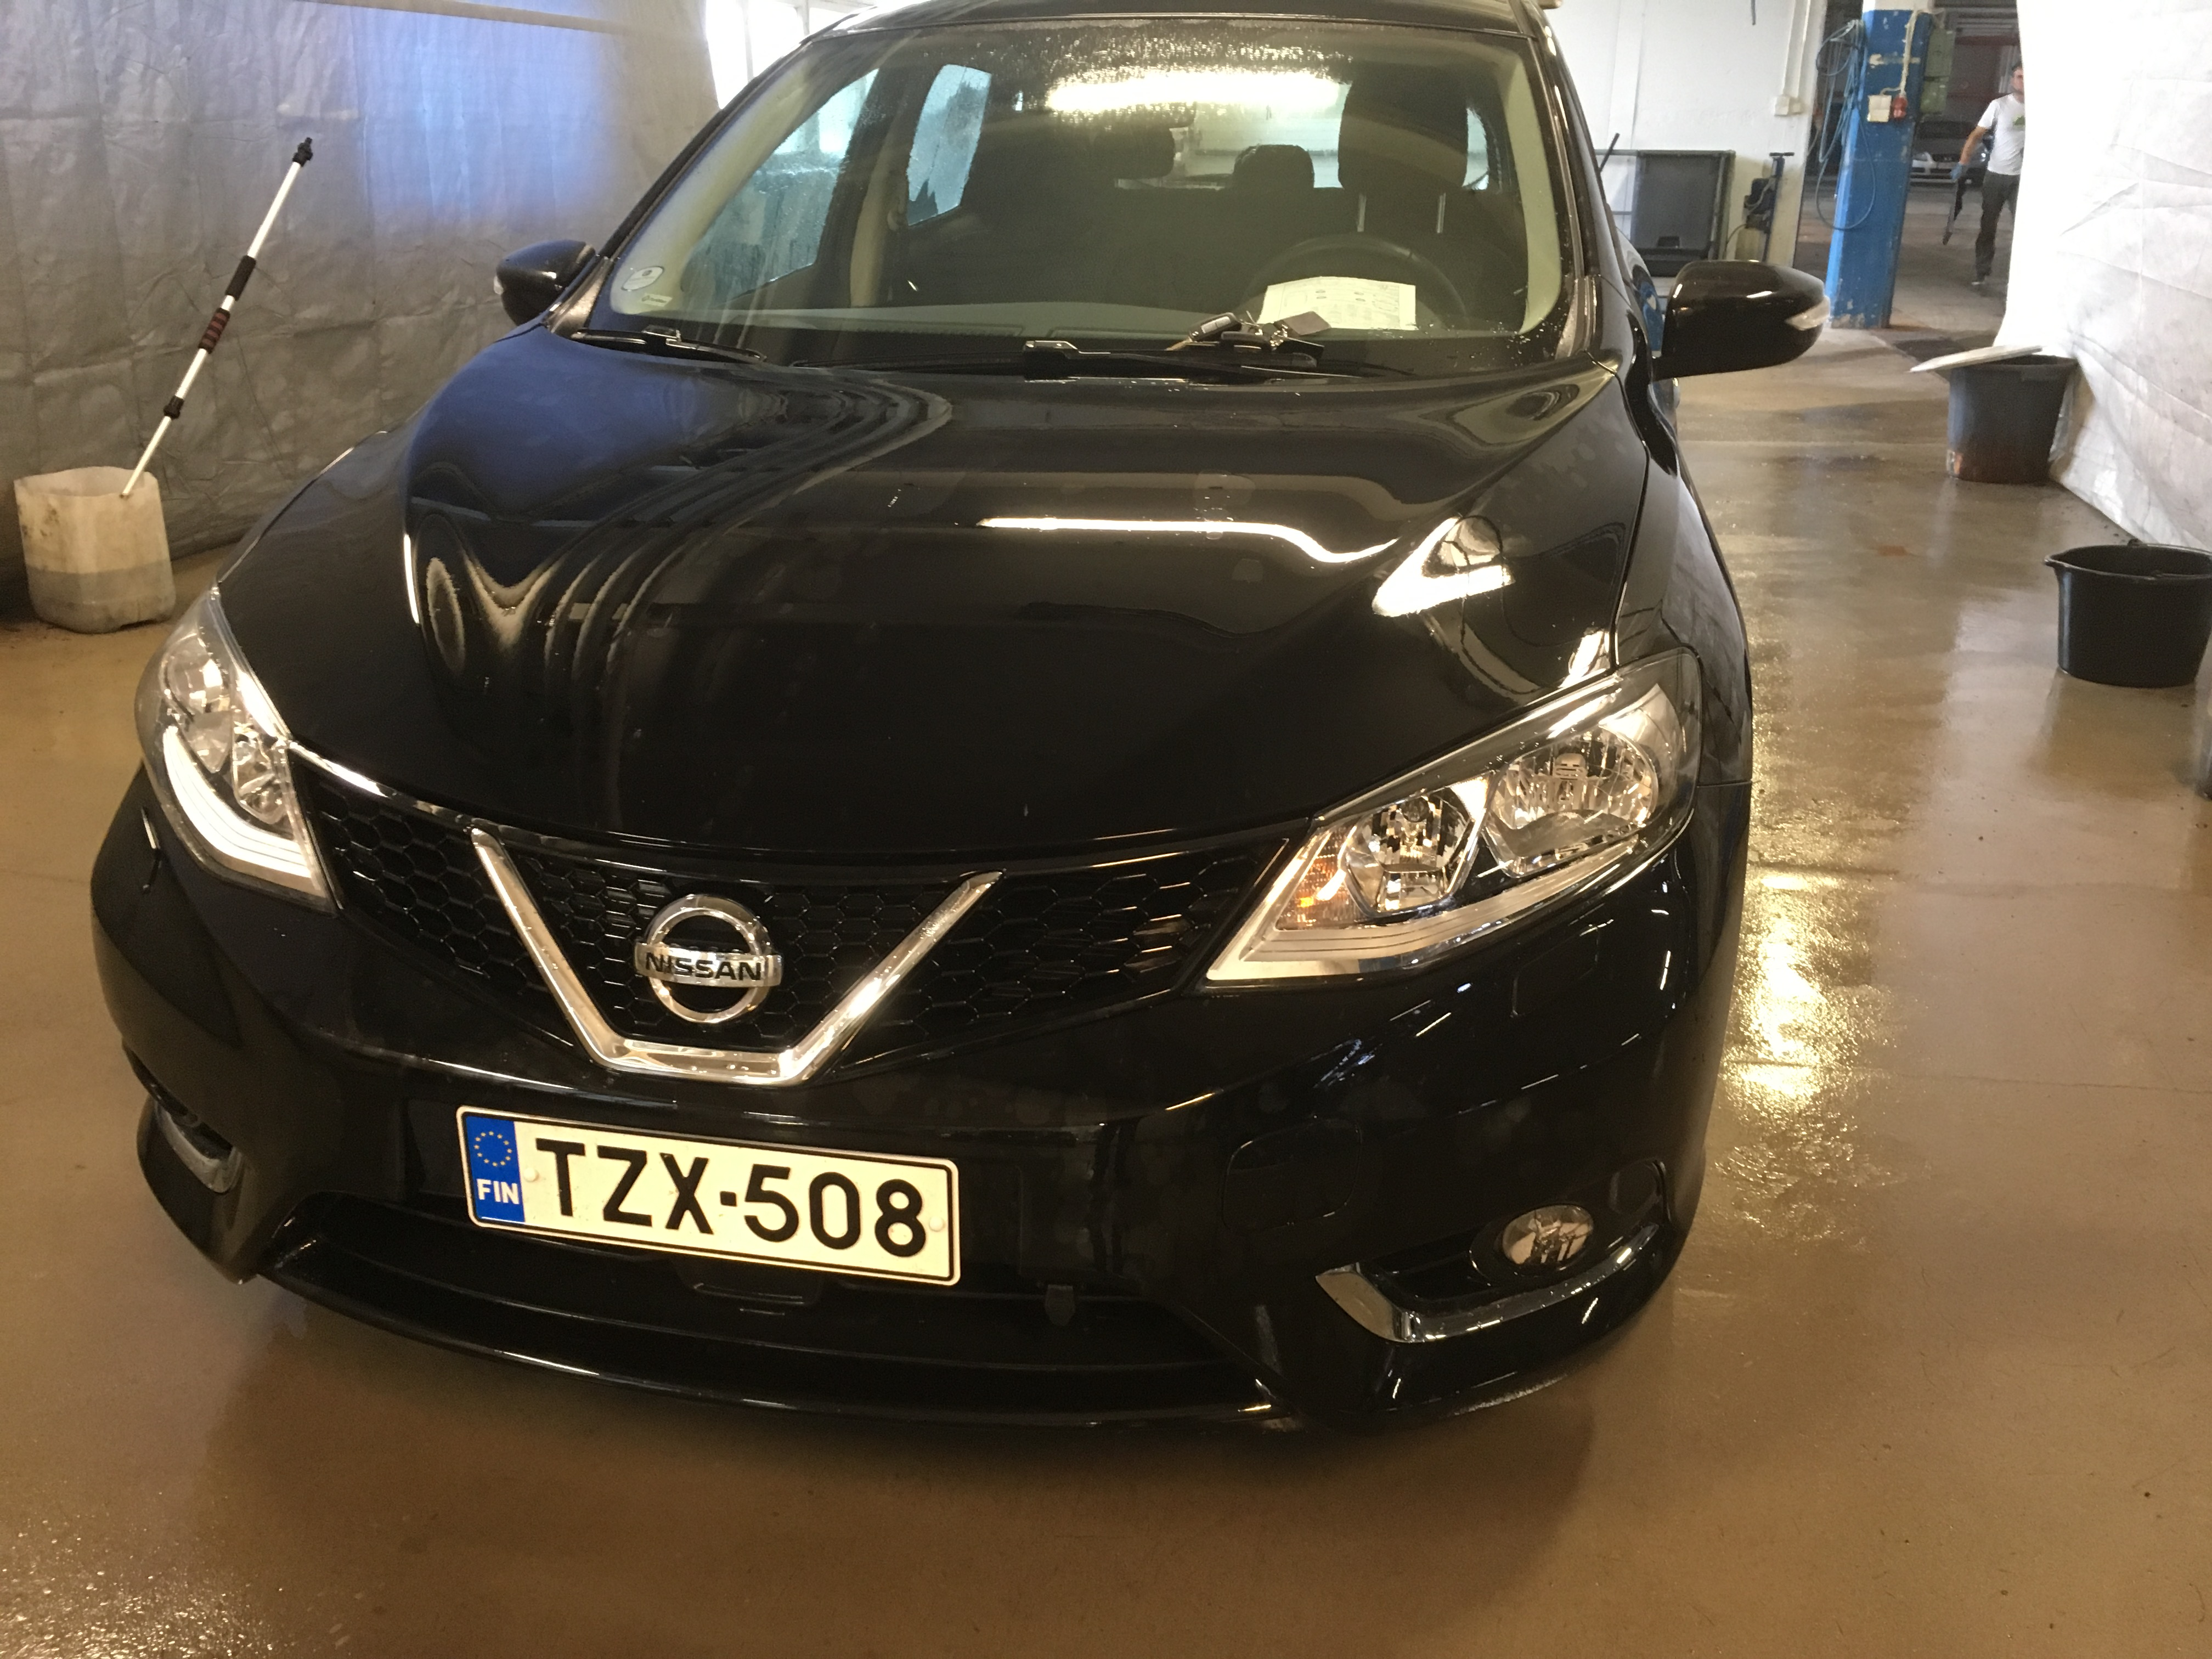license: (458, 1109, 952, 1284)
